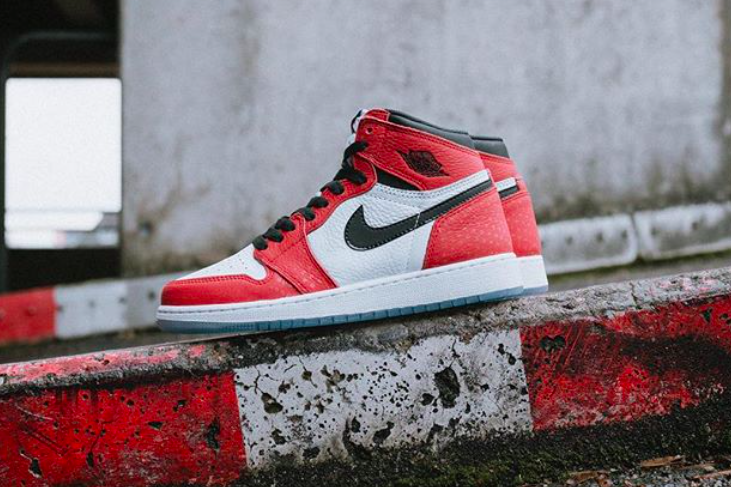Air Jordan 1 Spiderman: (145, 97, 531, 337)
